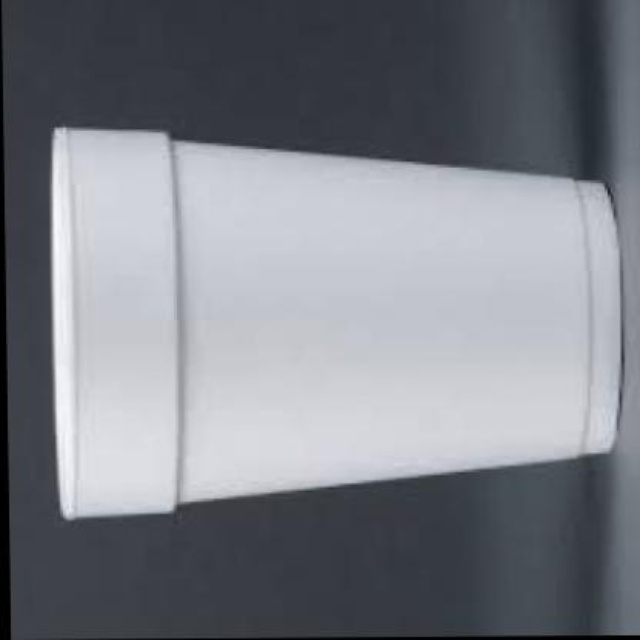trash: (52, 128, 618, 517)
